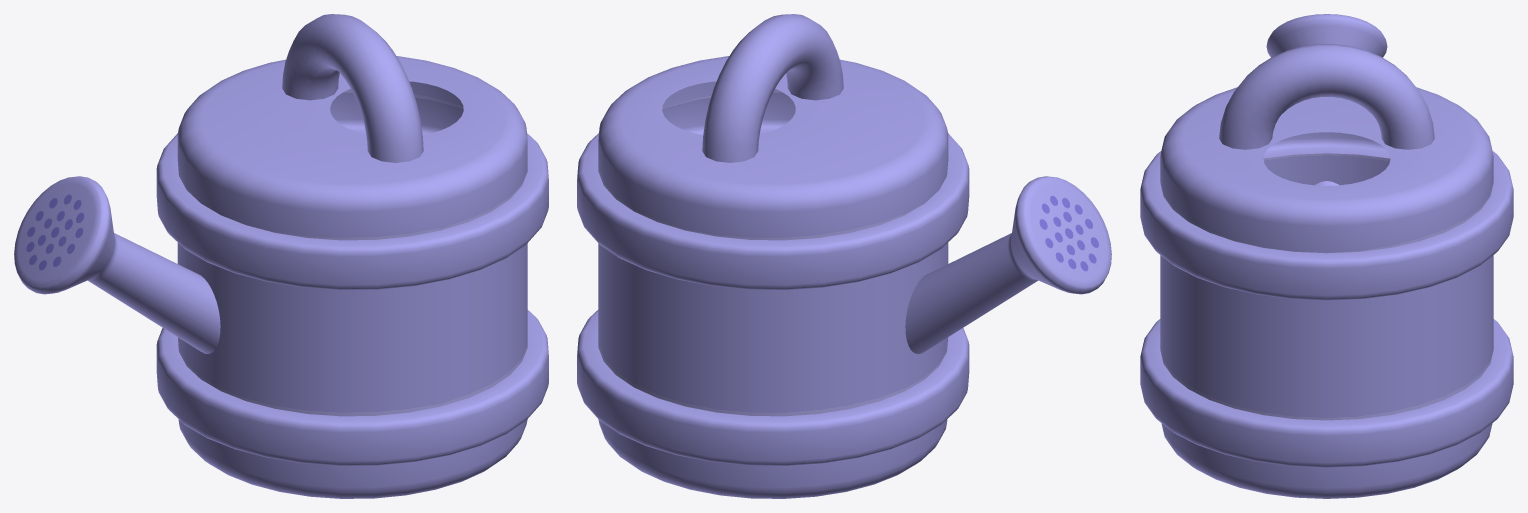
File: tempat_penyiram.fbx
3 renders of one model, left to right at view 1: azimuth 30°, elevation 25°; view 2: azimuth 150°, elevation 25°; view 3: azimuth 270°, elevation 25°, orthographic. The views are drawn at different scales.
Parts seen in each view (by area): view 1: tempat_penyiram; view 2: tempat_penyiram; view 3: tempat_penyiram.
Part boxes in pixels (<box>): tempat_penyiram: <box>14,14,548,498</box>; tempat_penyiram: <box>577,14,1111,498</box>; tempat_penyiram: <box>1140,14,1513,498</box>.
Bounding box in the file's own units: 3.69 × 2.91 × 2.53.
Materials: 1 (1 with a texture image).
